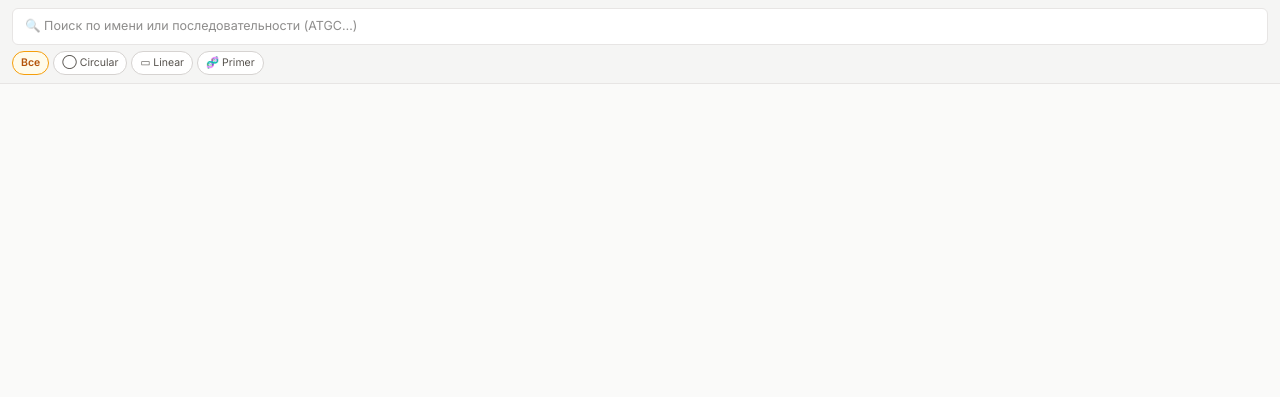
LibrarySearchBar — dropdown mode (canvas) › focus opens dropdown; project + loose expanded by default
The image size is (1280, 397).
Focus the search field with test id "canvas-library-search-bar-input" at (640, 26), box [12,8,1268,45]
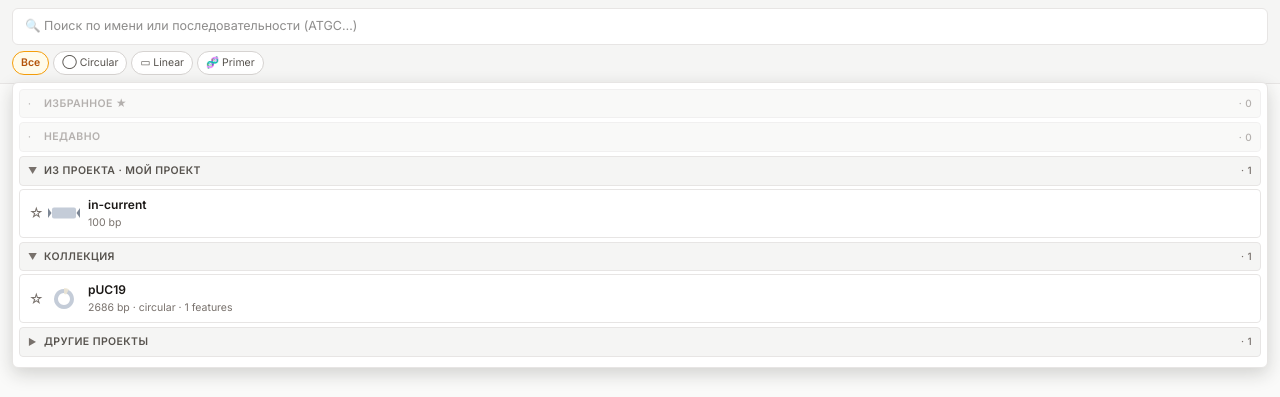
Check: the element with test id "canvas-library-search-bar-dropdown" is shown
Check: the button with test id "canvas-library-search-bar-section-loose-item-le01" is shown, box [19,274,1261,323]
Check: the button with test id "canvas-library-search-bar-section-project-item-le03" is shown, box [19,189,1261,238]
